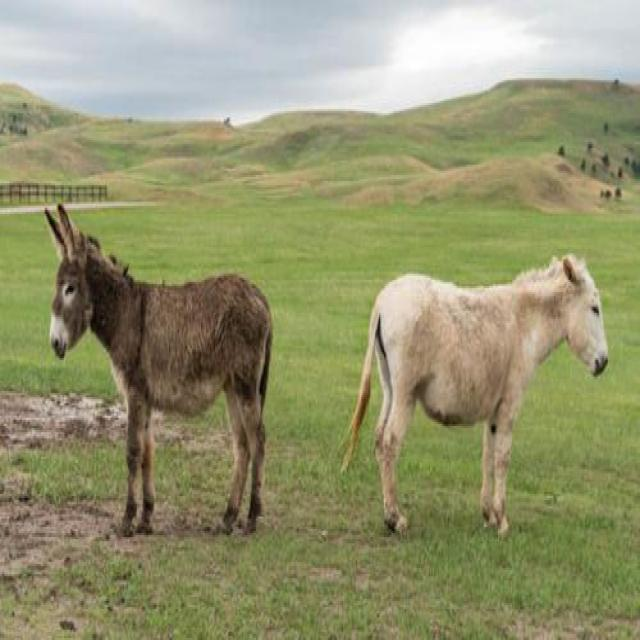Donkey: (46, 203, 274, 542), (350, 249, 610, 539)
